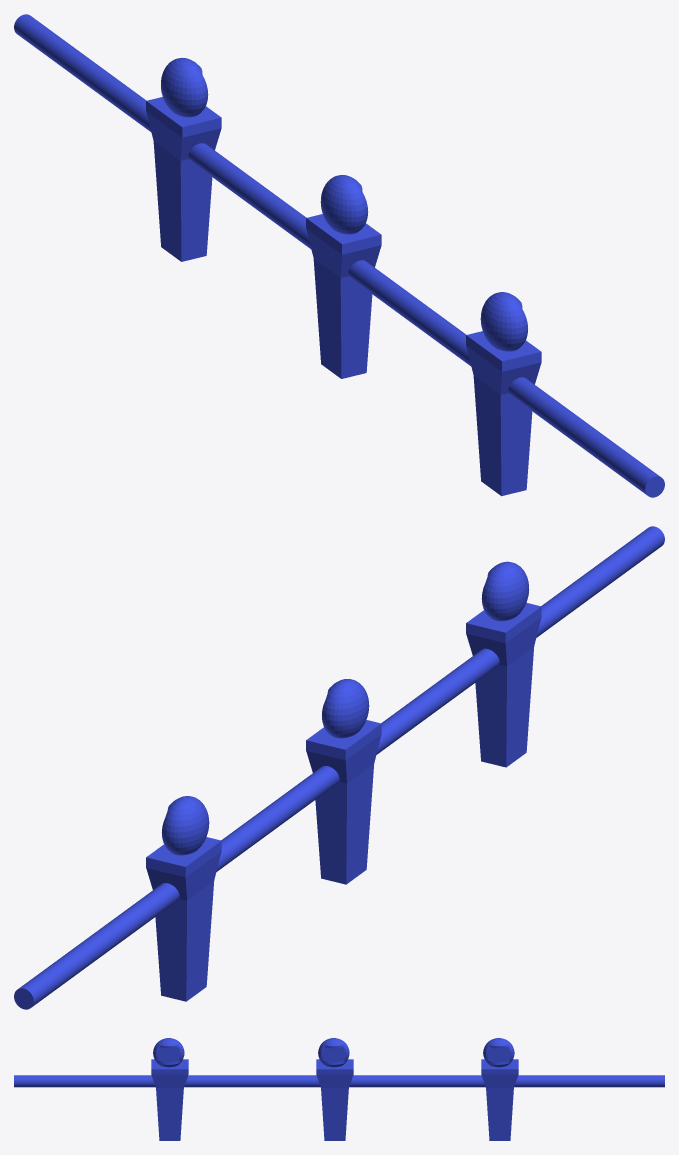
File: Player_A4.glb
3 renders of one model, top to bottom at view 1: azimuth 30°, elevation 25°; view 2: azimuth 150°, elevation 25°; view 3: azimuth 270°, elevation 25°, orthographic. The views are drawn at different scales.
Visible parts, largest first — view 1: Player_A4; view 2: Player_A4; view 3: Player_A4.
Part boxes in pixels (x1,y1,x2,y2): Player_A4: (14,14,664,497); Player_A4: (14,526,664,1009); Player_A4: (14,1038,664,1140).
Size of the model in its own units: 1.57 by 7.28 by 43.39.
